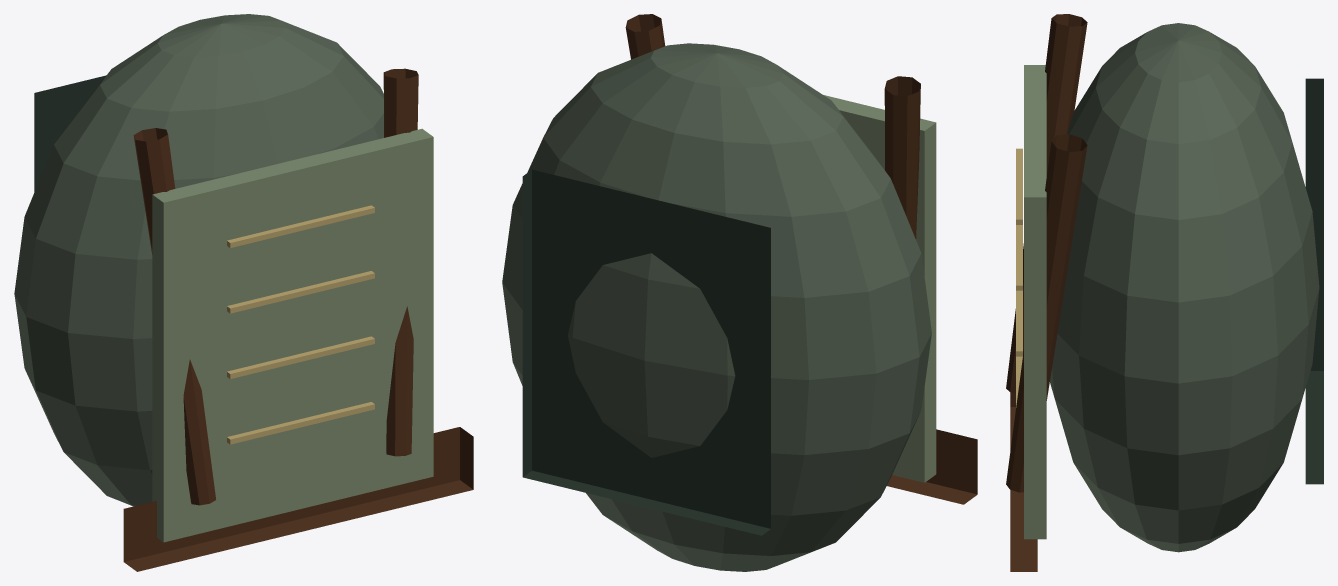
The model's file is MagicForestTorso.obj.
3 renders of one model, left to right at view 1: azimuth 30°, elevation 25°; view 2: azimuth 150°, elevation 25°; view 3: azimuth 270°, elevation 25°, orthographic. The views are drawn at different scales.
Visible parts, largest first — view 1: FrontPanel, TorsoShell, WaistBand, ShoulderStrap-0.64, ShoulderStrap0.64, BackReinforcement, Stitch2, Stitch3, Stitch0, Stitch1; view 2: TorsoShell, BackReinforcement, FrontPanel, ShoulderStrap-0.64, WaistBand, ShoulderStrap0.64; view 3: TorsoShell, FrontPanel, ShoulderStrap0.64, BackReinforcement, ShoulderStrap-0.64, WaistBand, Stitch3, Stitch1, Stitch2.
Boxes of the visible parts, box(x1,y1,x2,y2) form: FrontPanel: box(152, 128, 433, 542); TorsoShell: box(14, 14, 383, 506); WaistBand: box(123, 427, 473, 571); ShoulderStrap-0.64: box(133, 128, 215, 505); ShoulderStrap0.64: box(383, 68, 418, 456); BackReinforcement: box(34, 75, 106, 191); Stitch2: box(227, 271, 374, 313); Stitch3: box(227, 205, 374, 248); Stitch0: box(227, 402, 374, 444); Stitch1: box(227, 336, 374, 378); TorsoShell: box(502, 43, 931, 571); BackReinforcement: box(522, 169, 770, 535); FrontPanel: box(823, 95, 936, 482); ShoulderStrap-0.64: box(884, 76, 920, 238); WaistBand: box(887, 429, 977, 504); ShoulderStrap0.64: box(625, 14, 665, 59); TorsoShell: box(1050, 23, 1319, 552); FrontPanel: box(1024, 65, 1046, 539); ShoulderStrap0.64: box(1006, 134, 1087, 492); BackReinforcement: box(1305, 78, 1323, 484); ShoulderStrap-0.64: box(1006, 14, 1087, 393); WaistBand: box(1010, 392, 1037, 571); Stitch3: box(1016, 148, 1022, 224); Stitch1: box(1016, 290, 1022, 356); Stitch2: box(1016, 225, 1022, 290).
Bounding box in the file's own units: 2.02 × 2.42 × 1.41.
